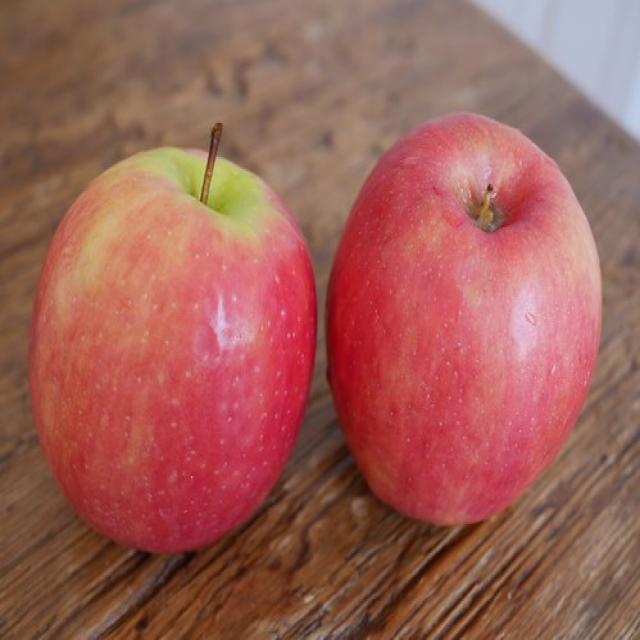Apple: (33, 113, 317, 555), (322, 99, 605, 528)
